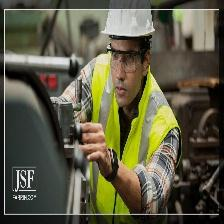Person: (48, 2, 183, 224)
helmet: (100, 1, 158, 42)
vest: (93, 90, 162, 224)
